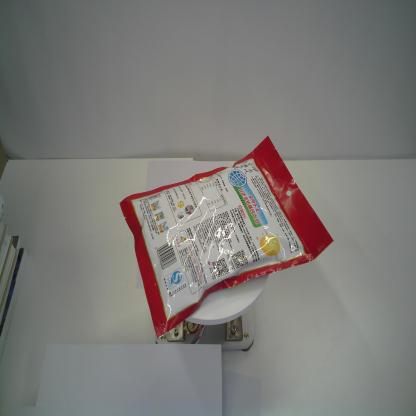Instant Drink: (117, 135, 334, 334)
